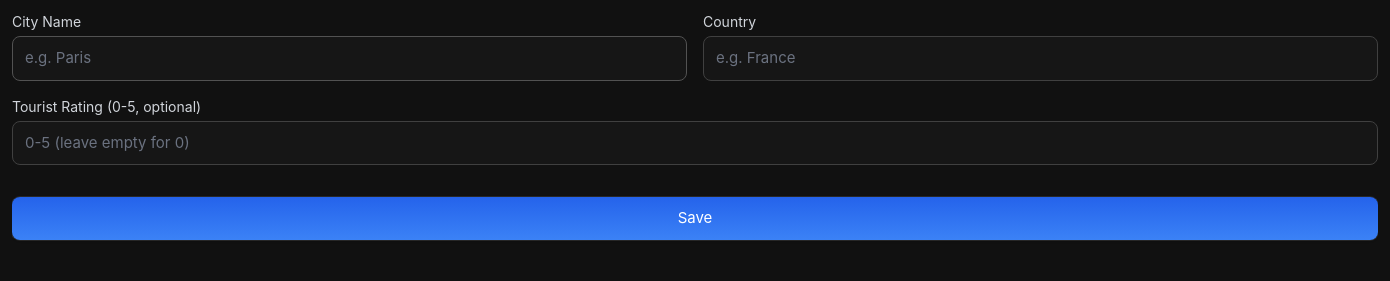
Test: CityForm › Create Mode › should show validation errors for required fields
This screenshot has width=1390, height=281.
Click the button "Save".
click(695, 218)  # box x1=12 y1=197 x2=1378 y2=240
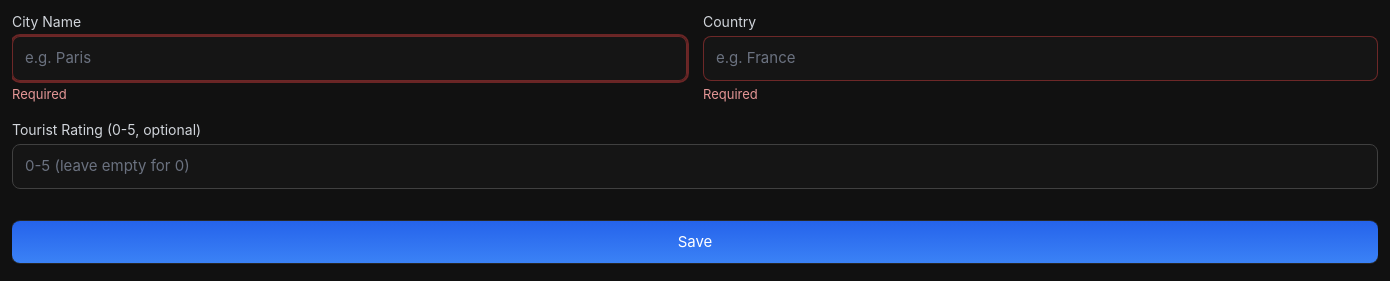
expect the text "Required" is shown 2 times: met, box x1=12 y1=86 x2=67 y2=102; x1=703 y1=86 x2=758 y2=102
